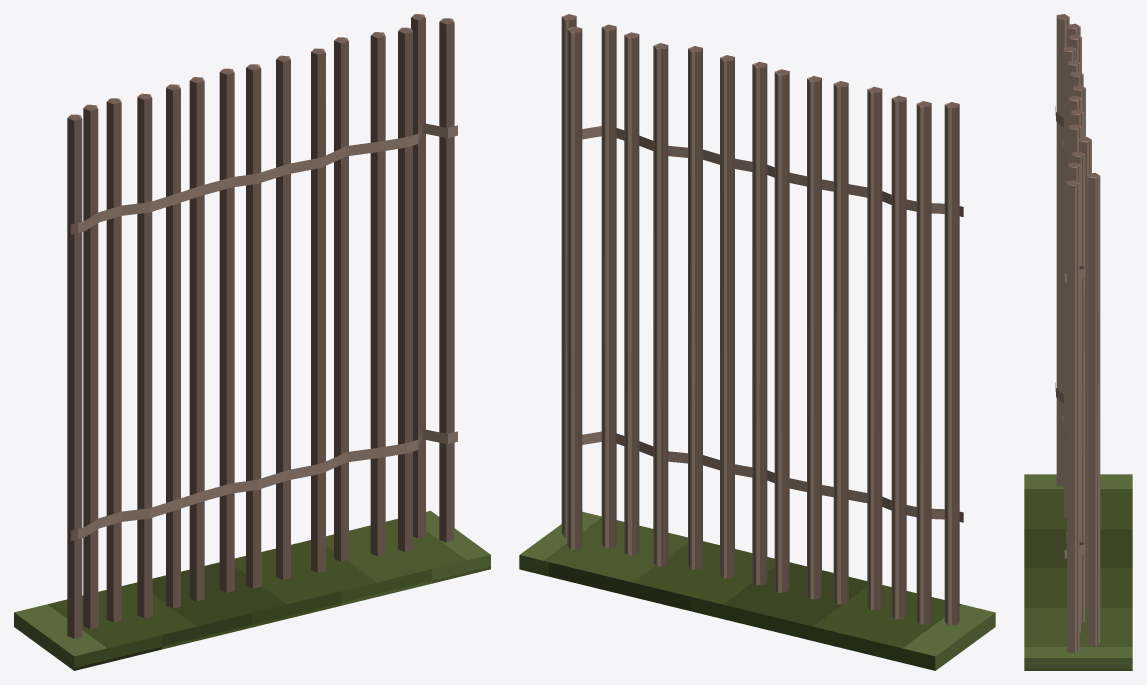
Rendered from wall_254x00.gltf.
3 renders of one model, left to right at view 1: azimuth 30°, elevation 25°; view 2: azimuth 150°, elevation 25°; view 3: azimuth 270°, elevation 25°, orthographic. The views are drawn at different scales.
Parts seen in each view (by area): view 1: wall_254x00; view 2: wall_254x00; view 3: wall_254x00.
Boxes of the visible parts, x1=… form: wall_254x00: x1=14, y1=14, x2=490, y2=670; wall_254x00: x1=519, y1=14, x2=995, y2=670; wall_254x00: x1=1024, y1=14, x2=1132, y2=670.
Bounding box in the file's own units: 4 × 4.89 × 1.
1 material, 1 textured.
